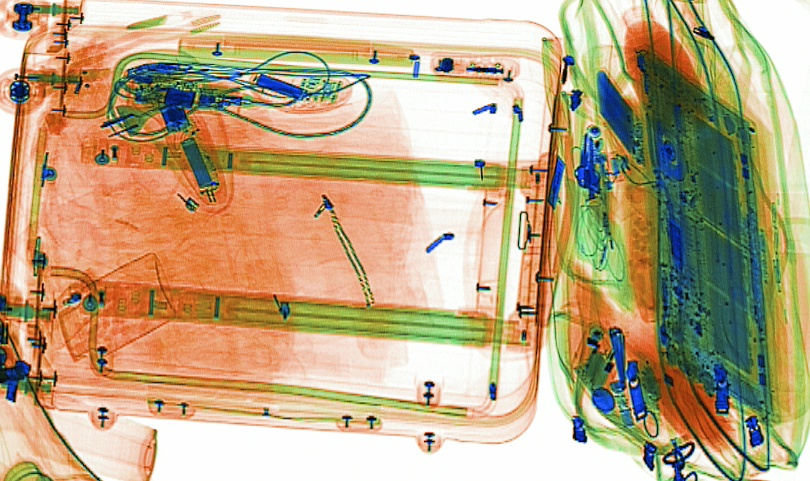powerbank: (592, 66, 648, 166)
